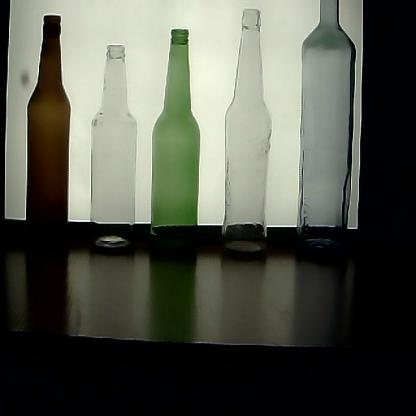Can: (293, 0, 358, 263), (218, 7, 274, 264), (145, 28, 203, 266), (23, 15, 74, 265), (87, 43, 141, 258)
